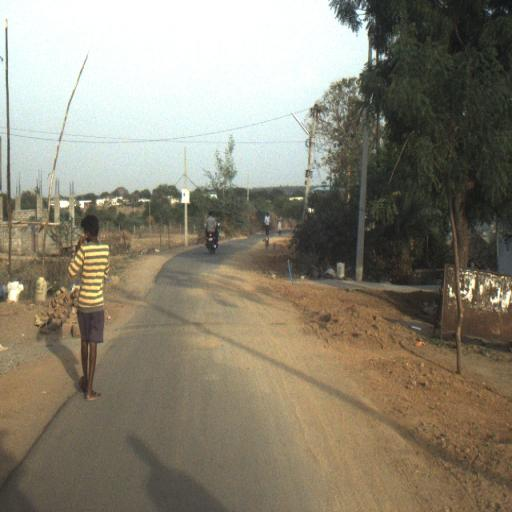street_light_0: (290, 112, 315, 148)
